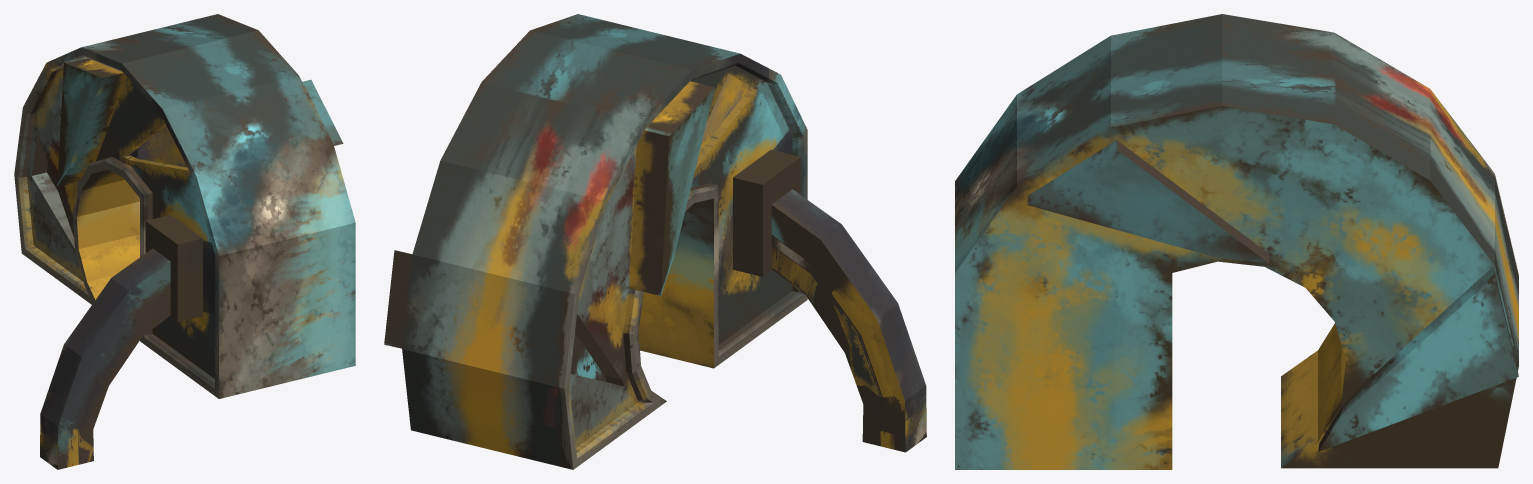
File: Machine2.fbx
3 views of the same model, side by side, from view 1: azimuth 30°, elevation 25°; view 2: azimuth 150°, elevation 25°; view 3: azimuth 270°, elevation 25° (orthographic). The views are drawn at different scales.
Parts seen in each view (by area): view 1: Cube, Cube.001, Cube.003, Cube.004, Cube.005; view 2: Cube, Cube.001, Cube.003, Cube.004, Cube.002, Cube.005; view 3: Cube, Cube.002, Cube.005.
Boxes of the visible parts, box(x1,y1,x2,y2) form: Cube: box(14, 14, 355, 398); Cube.001: box(40, 248, 170, 469); Cube.003: box(57, 57, 126, 186); Cube.004: box(145, 215, 202, 321); Cube.005: box(130, 79, 343, 167); Cube: box(402, 14, 807, 469); Cube.001: box(771, 189, 926, 452); Cube.003: box(629, 81, 714, 295); Cube.004: box(733, 149, 800, 276); Cube.002: box(384, 250, 606, 381); Cube.005: box(699, 74, 750, 151); Cube: box(955, 14, 1518, 469); Cube.002: box(1318, 266, 1518, 451); Cube.005: box(1027, 140, 1269, 263).
Bounding box in the file's own units: 413 × 455 × 519.
